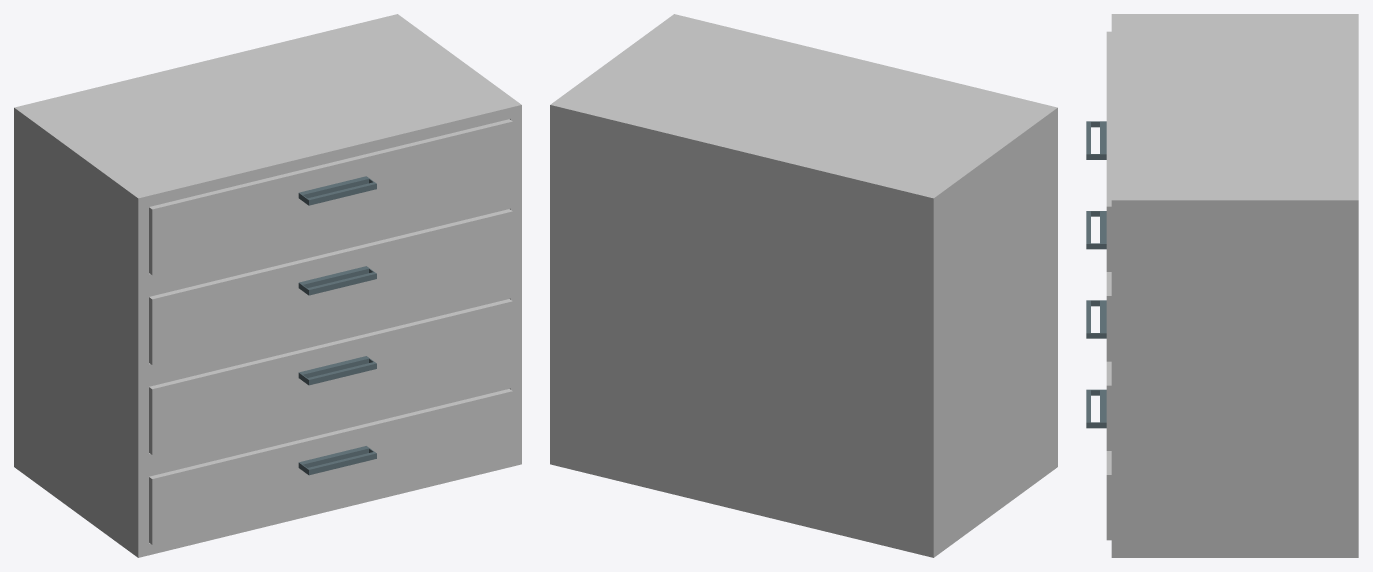
Rendered from CabinetWideV1White.fbx.
3 views of the same model, side by side, from view 1: azimuth 30°, elevation 25°; view 2: azimuth 150°, elevation 25°; view 3: azimuth 270°, elevation 25° (orthographic).
Visible parts, largest first — view 1: CabinetWideV1White, CabinetWideV1White_Drawer1, CabinetWideV1White_Drawer4, CabinetWideV1White_Drawer2, CabinetWideV1White_Drawer3; view 2: CabinetWideV1White; view 3: CabinetWideV1White, CabinetWideV1White_Drawer1, CabinetWideV1White_Drawer4, CabinetWideV1White_Drawer2, CabinetWideV1White_Drawer3.
Boxes of the visible parts, x1,y1,x2,y2 form: CabinetWideV1White: (14, 14, 521, 557); CabinetWideV1White_Drawer1: (149, 119, 512, 275); CabinetWideV1White_Drawer4: (149, 389, 512, 544); CabinetWideV1White_Drawer2: (149, 209, 512, 364); CabinetWideV1White_Drawer3: (149, 299, 512, 454); CabinetWideV1White: (550, 14, 1057, 557); CabinetWideV1White: (1111, 14, 1358, 557); CabinetWideV1White_Drawer1: (1086, 31, 1111, 271); CabinetWideV1White_Drawer4: (1086, 389, 1111, 540); CabinetWideV1White_Drawer2: (1086, 211, 1111, 361); CabinetWideV1White_Drawer3: (1086, 300, 1111, 450).
Bounding box in the file's own units: 89.32 × 80 × 55.23.
